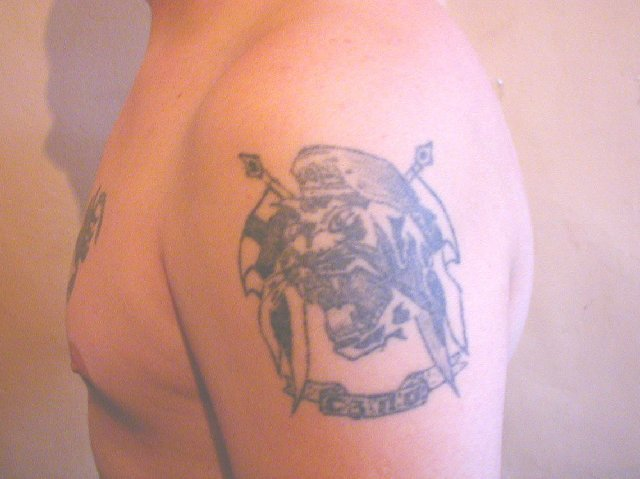tatu5_tigr: (270, 194, 445, 361)
